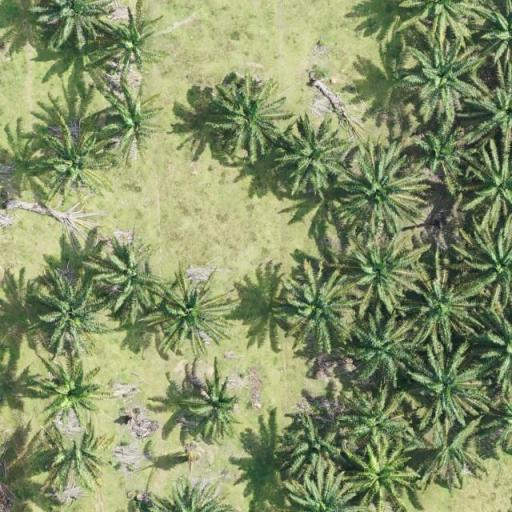Ganoderma: (53, 371, 95, 410)
